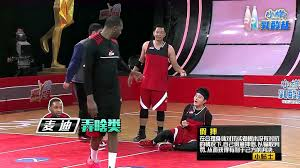fall: (137, 82, 219, 152)
